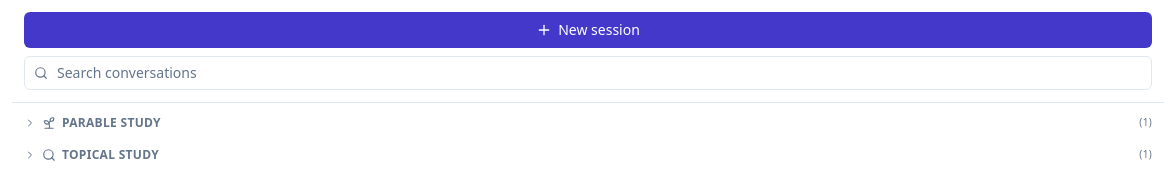
SessionsPane › search › hides sessions that do not match what was typed, keeping matches grouped by mode
Type "prodigal" into the search field labelled "Search conversations".
click(588, 73); type("prodigal")  # box [24,56,1152,90]
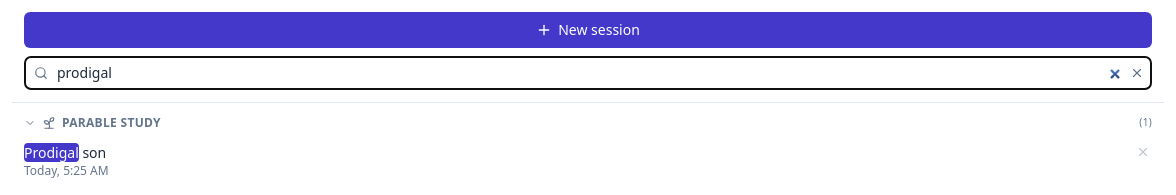
Check: the text "Parable Study" is shown, box [62,115,161,131]
Check: the button "Topical Study" is gone
